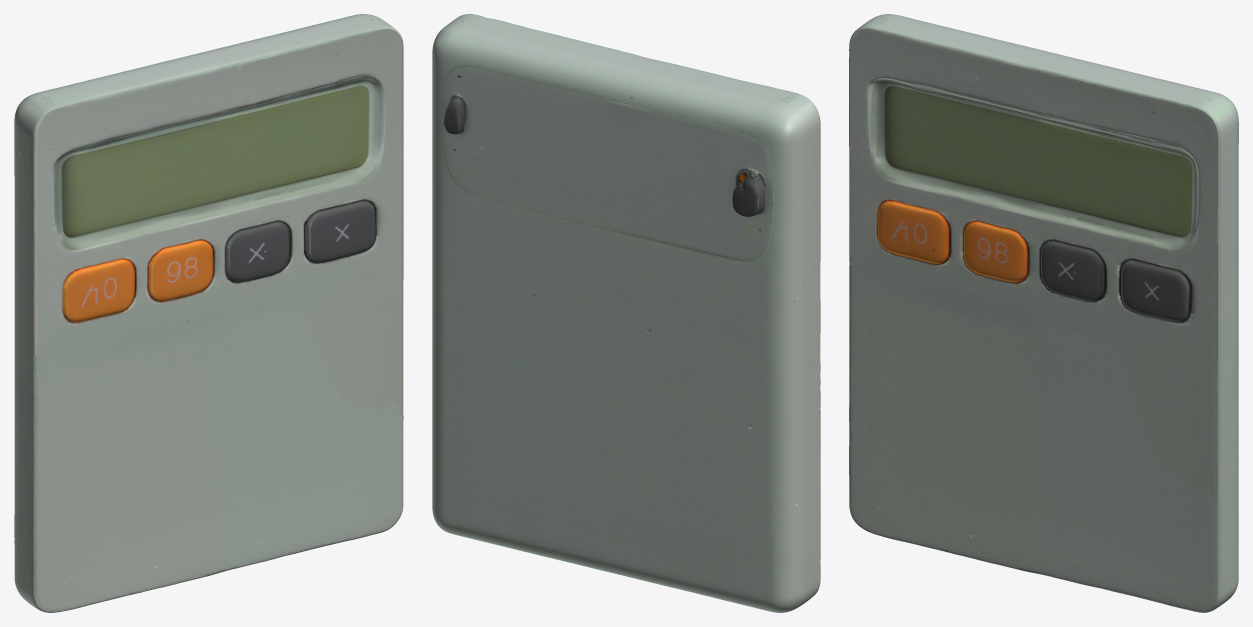
Rendered from calcualtor.glb.
3 renders of one model, left to right at view 1: azimuth 30°, elevation 25°; view 2: azimuth 150°, elevation 25°; view 3: azimuth 330°, elevation 25°, orthographic.
Size of the model in its own units: 1.54 by 2.01 by 0.2858.
1 material, 1 textured.
